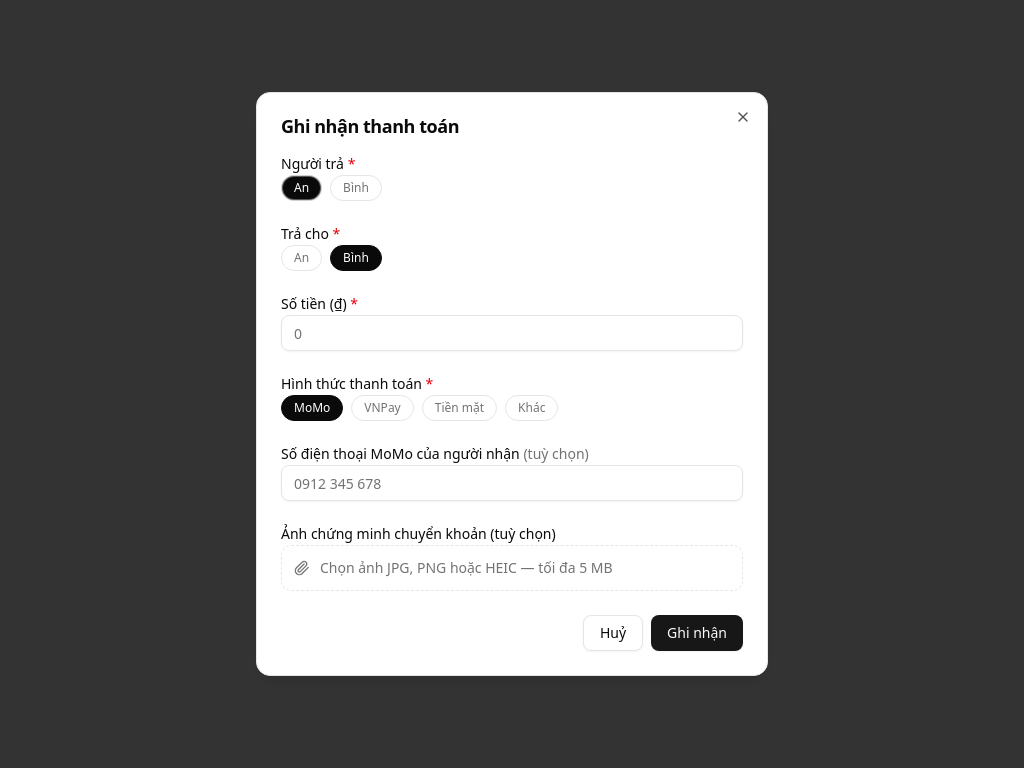
Test: RecordSettlementDialog — formTouched + error derivation › shows amount error after submitting with amount 0
Click the button "Ghi nhận" at coordinates (697, 633), box x1=651 y1=615 x2=743 y2=651
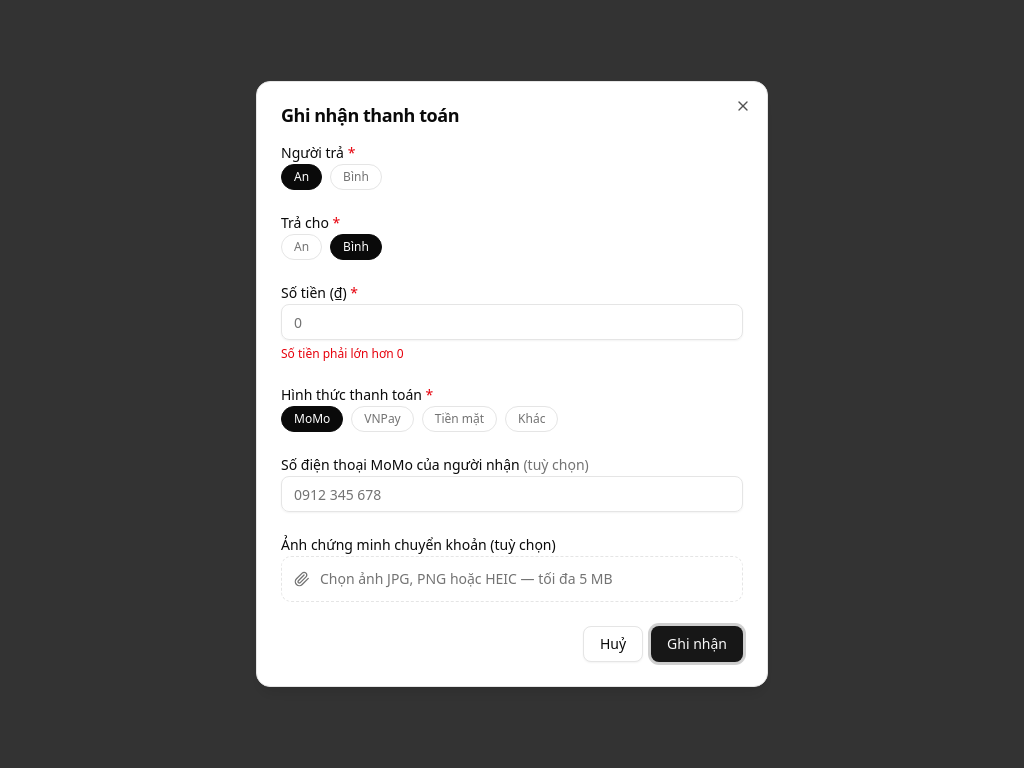
Now the text "Số tiền phải lớn hơn 0" is shown, box x1=281 y1=345 x2=404 y2=362
